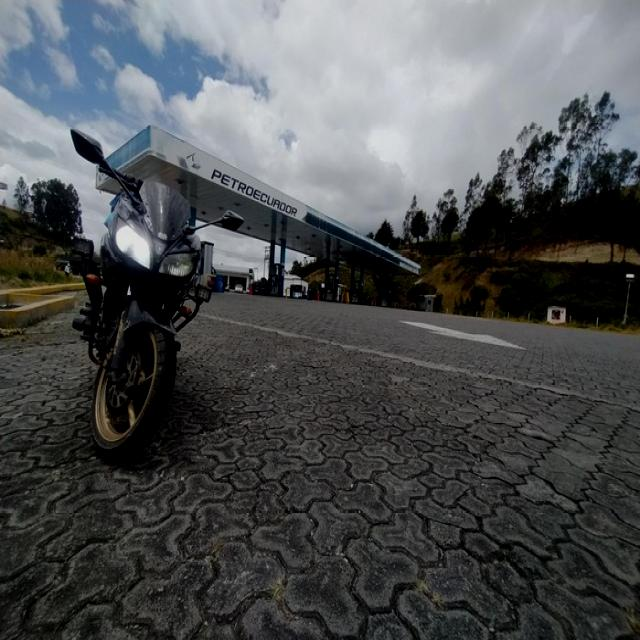MOTORCYCLE: (74, 147, 206, 467)
